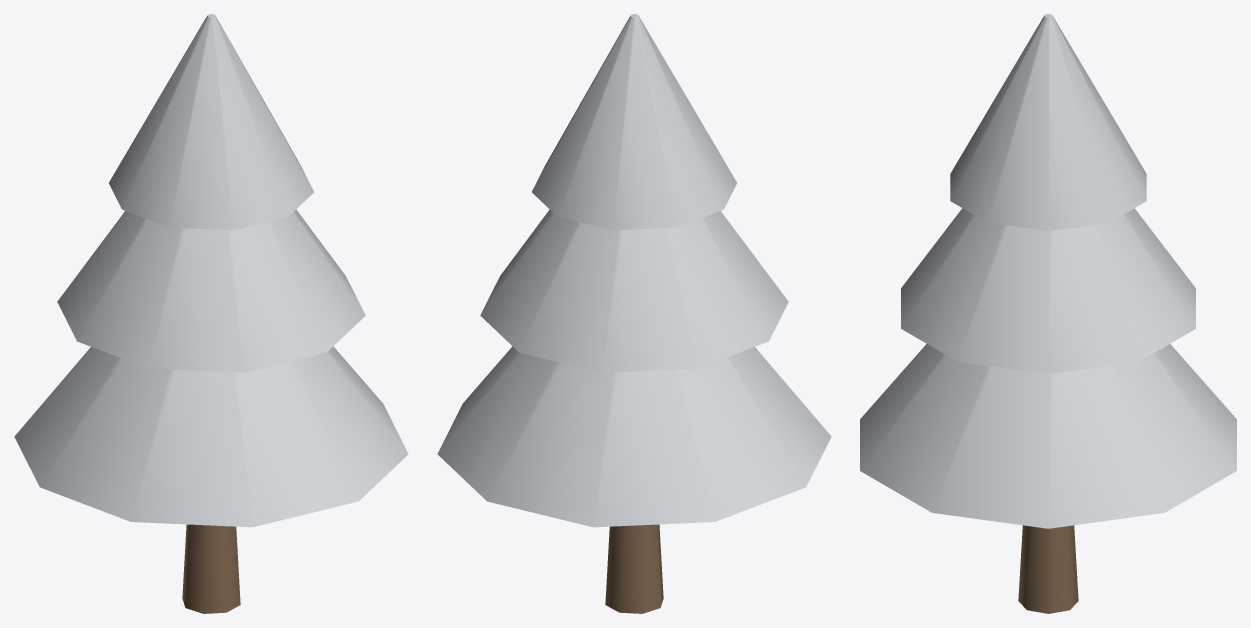
The model's file is tree_pine.glb.
3 renders of one model, left to right at view 1: azimuth 30°, elevation 25°; view 2: azimuth 150°, elevation 25°; view 3: azimuth 270°, elevation 25°, orthographic.
Parts seen in each view (by area): view 1: pine_needles, pine_trunk; view 2: pine_needles, pine_trunk; view 3: pine_needles, pine_trunk.
Boxes of the visible parts, left/top/right/bottom form: pine_needles: left=14, top=14, right=408, bottom=527; pine_trunk: left=182, top=524, right=240, bottom=613; pine_needles: left=437, top=14, right=831, bottom=527; pine_trunk: left=605, top=524, right=663, bottom=613; pine_needles: left=860, top=14, right=1236, bottom=528; pine_trunk: left=1018, top=525, right=1078, bottom=613.
Size of the model in its own units: 4.6 by 7.5 by 4.37.
